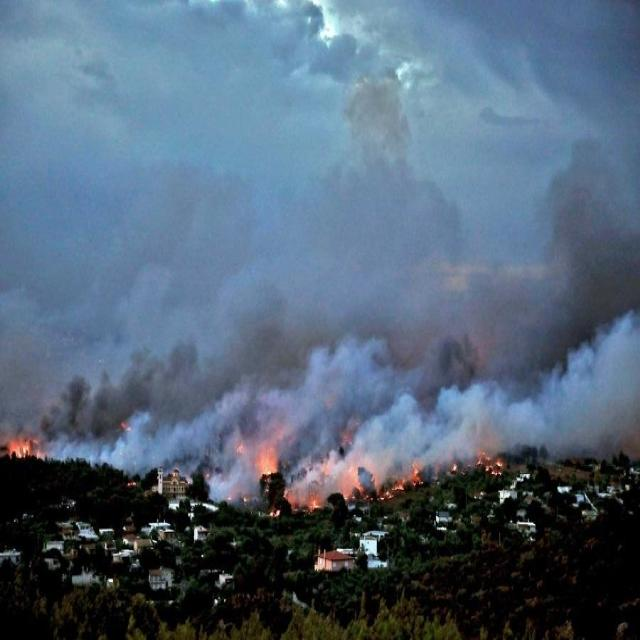Fire: (6, 436, 32, 462), (256, 446, 276, 478), (408, 462, 422, 488), (485, 460, 501, 478), (378, 486, 394, 502), (310, 496, 322, 512), (233, 441, 244, 456), (475, 450, 484, 466), (270, 506, 282, 517), (392, 482, 405, 492), (452, 460, 458, 472)
